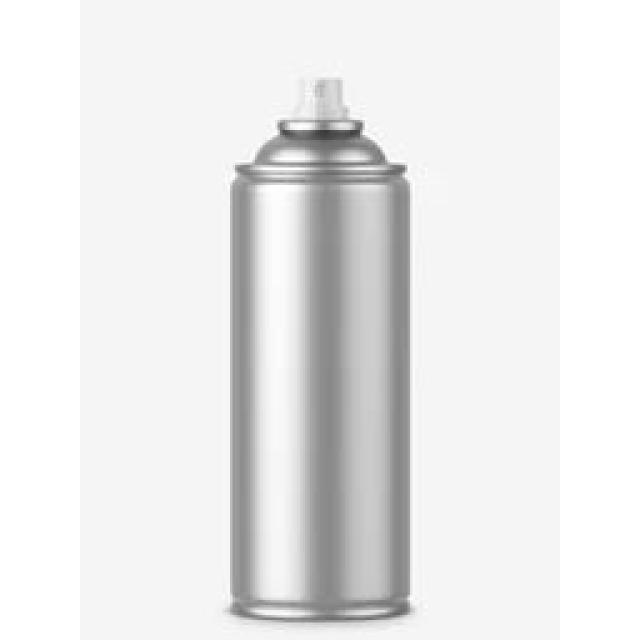alumunium: (230, 120, 408, 618)
